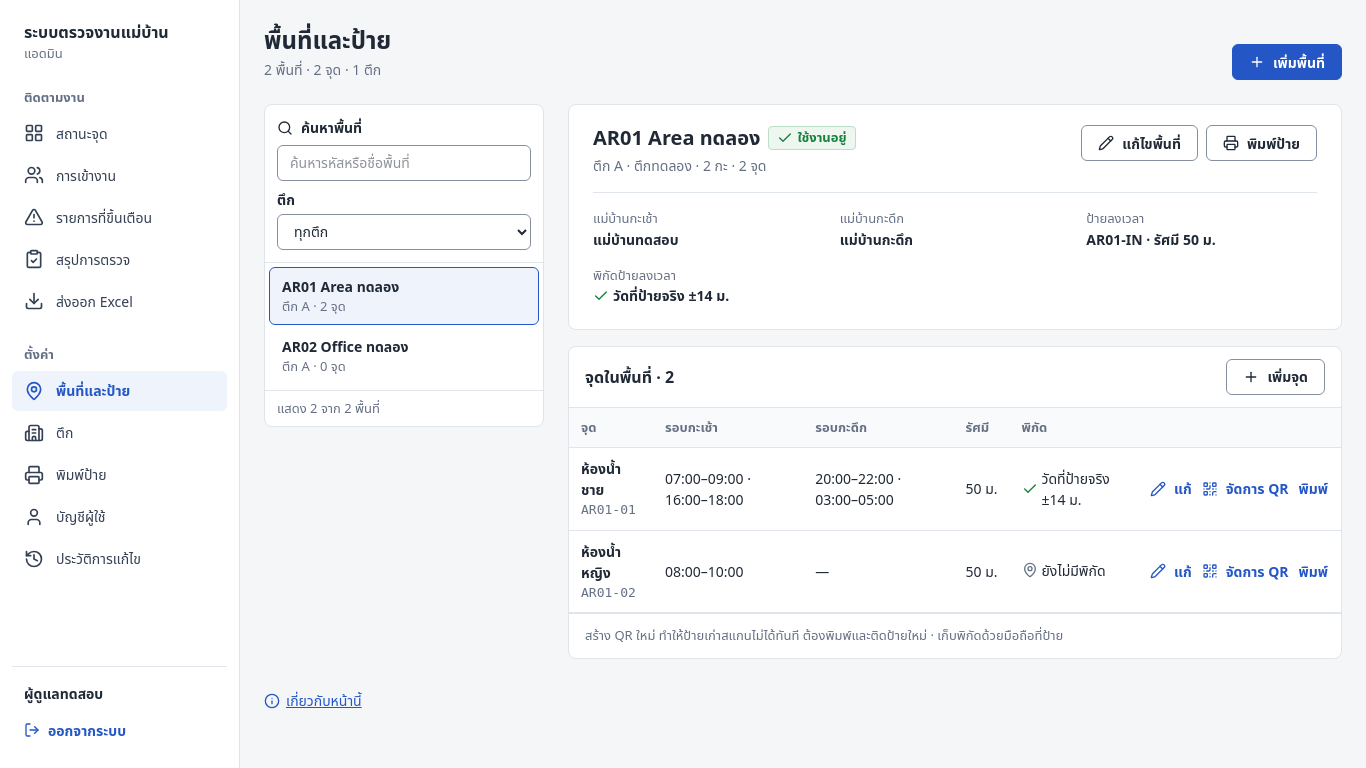
Scenario: setup Drawer pending dismissal › Point save preserves the draft through Escape/header dismissal and a failed request
Click the button with aria-label "แก้ไข AR01-01" at (1171, 489), box [1149,471,1193,507]
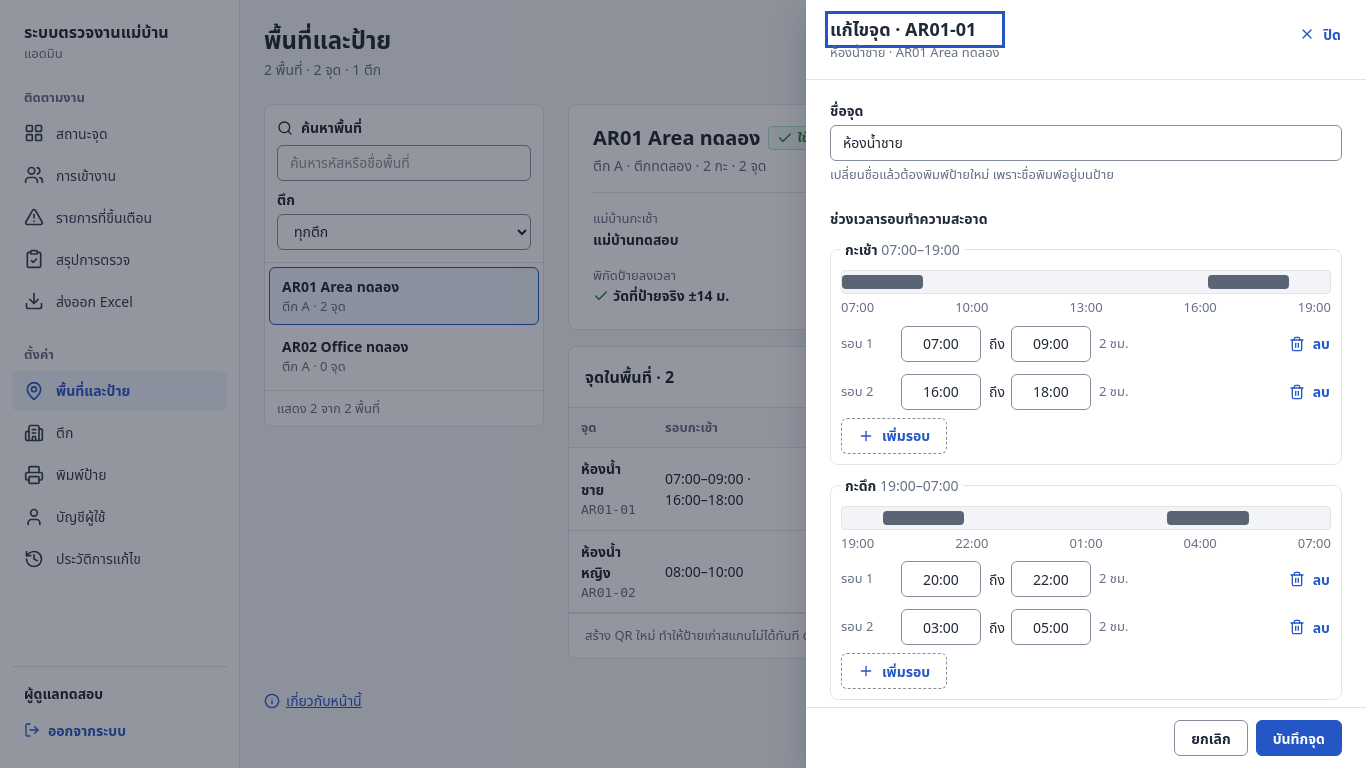
Replace the text in the field labelled "ชื่อจุด" with "ชื่อที่ยังไม่บันทึก" at (1086, 142), box [830,124,1342,160]
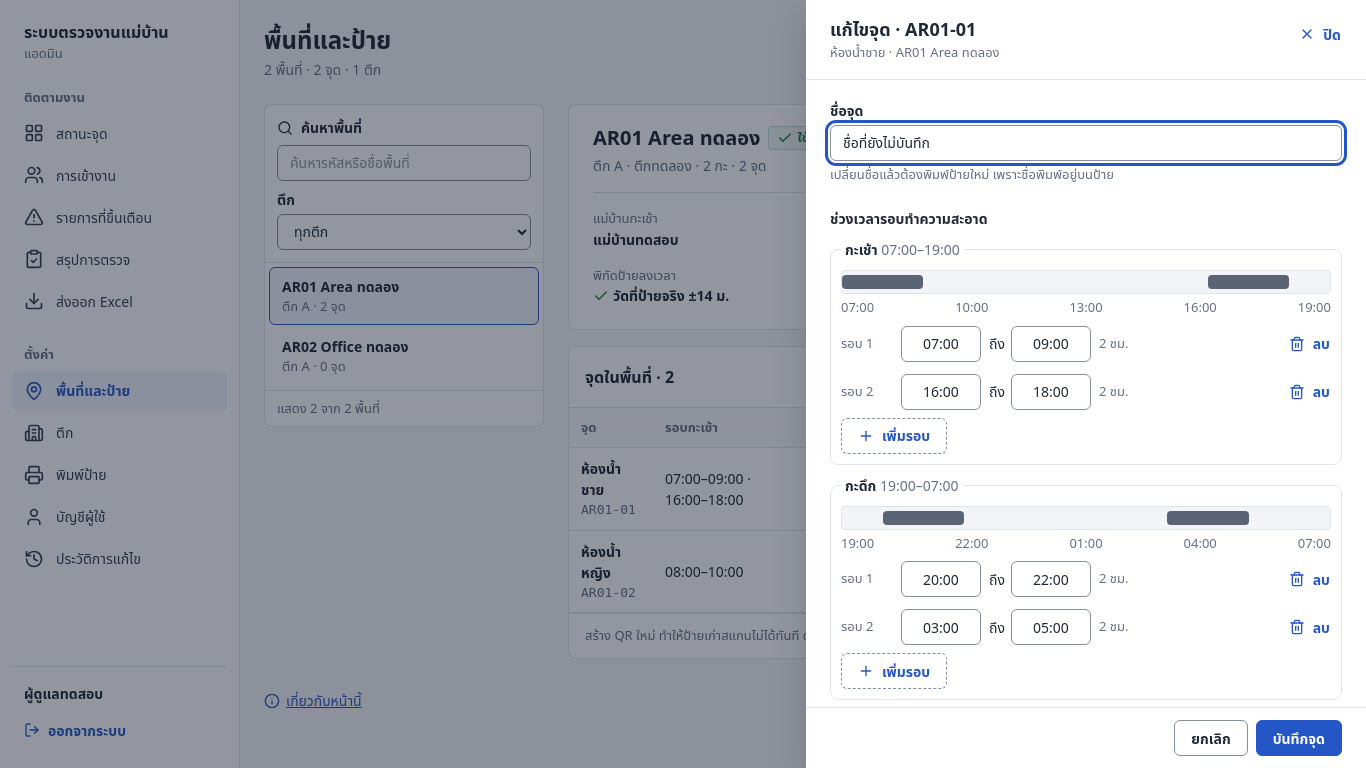
Click the button "บันทึกจุด" at (1299, 738), box [1256,720,1342,756]
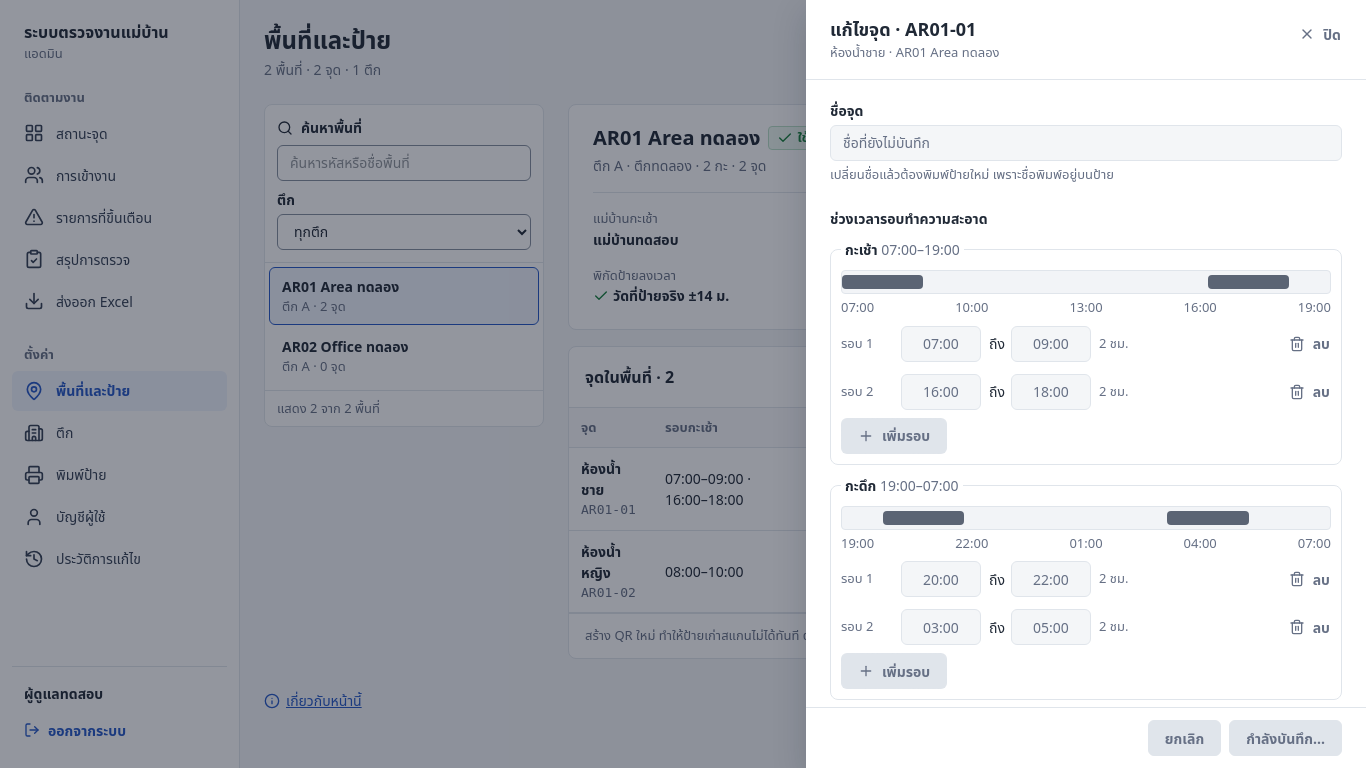
Press Escape in the dialog, box [806,0,1365,767]
Now the dialog is shown, box [806,0,1365,767]
Click the button "ปิด" at (1320, 34), box [1298,16,1342,52]
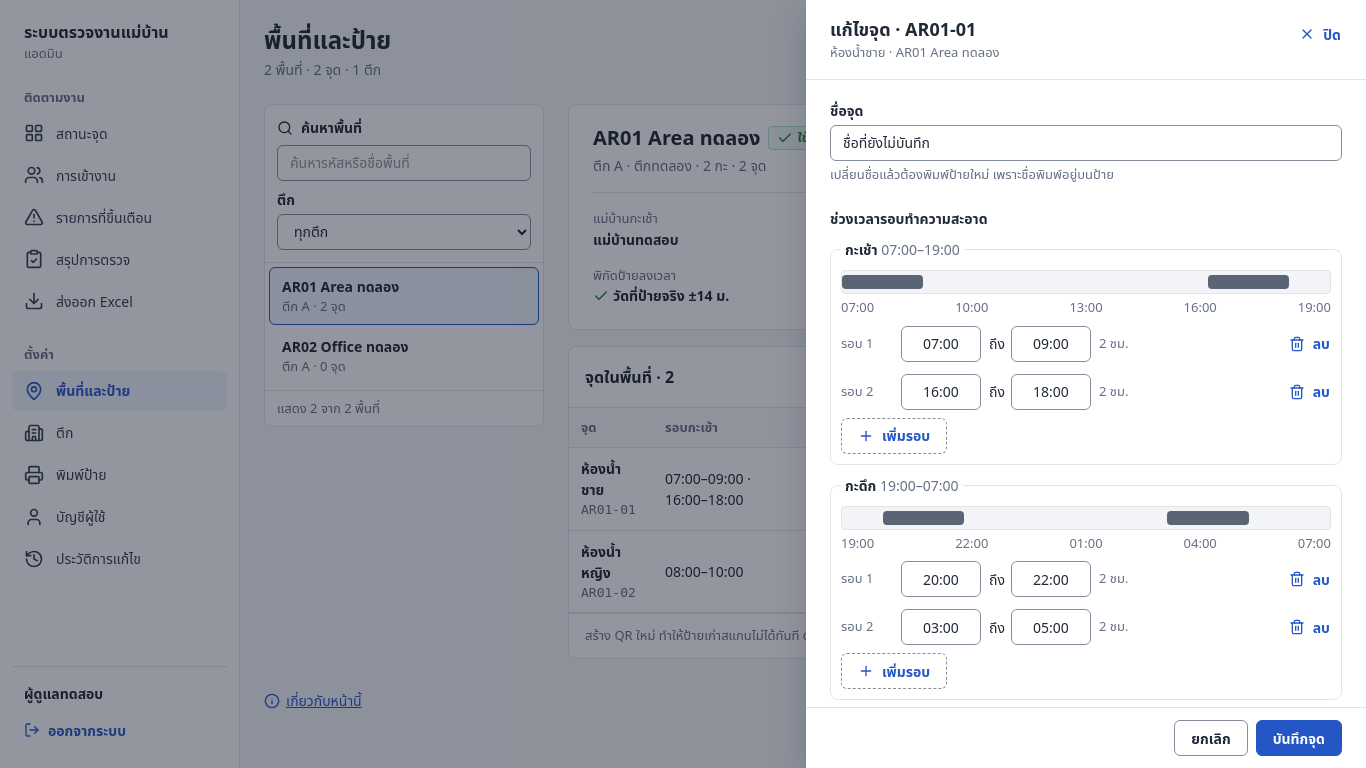
Now the dialog is shown
Press Escape in the dialog, box [806,0,1365,767]
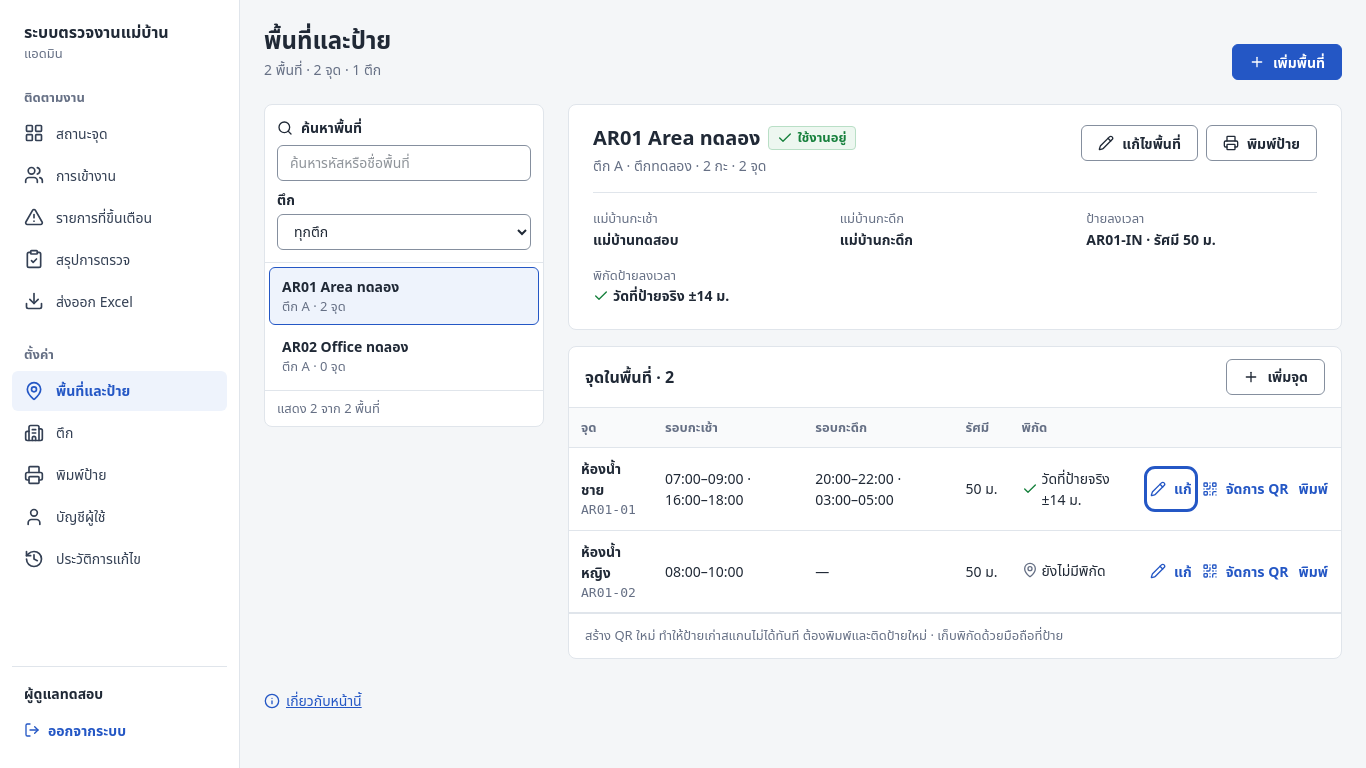
Now the dialog is gone
